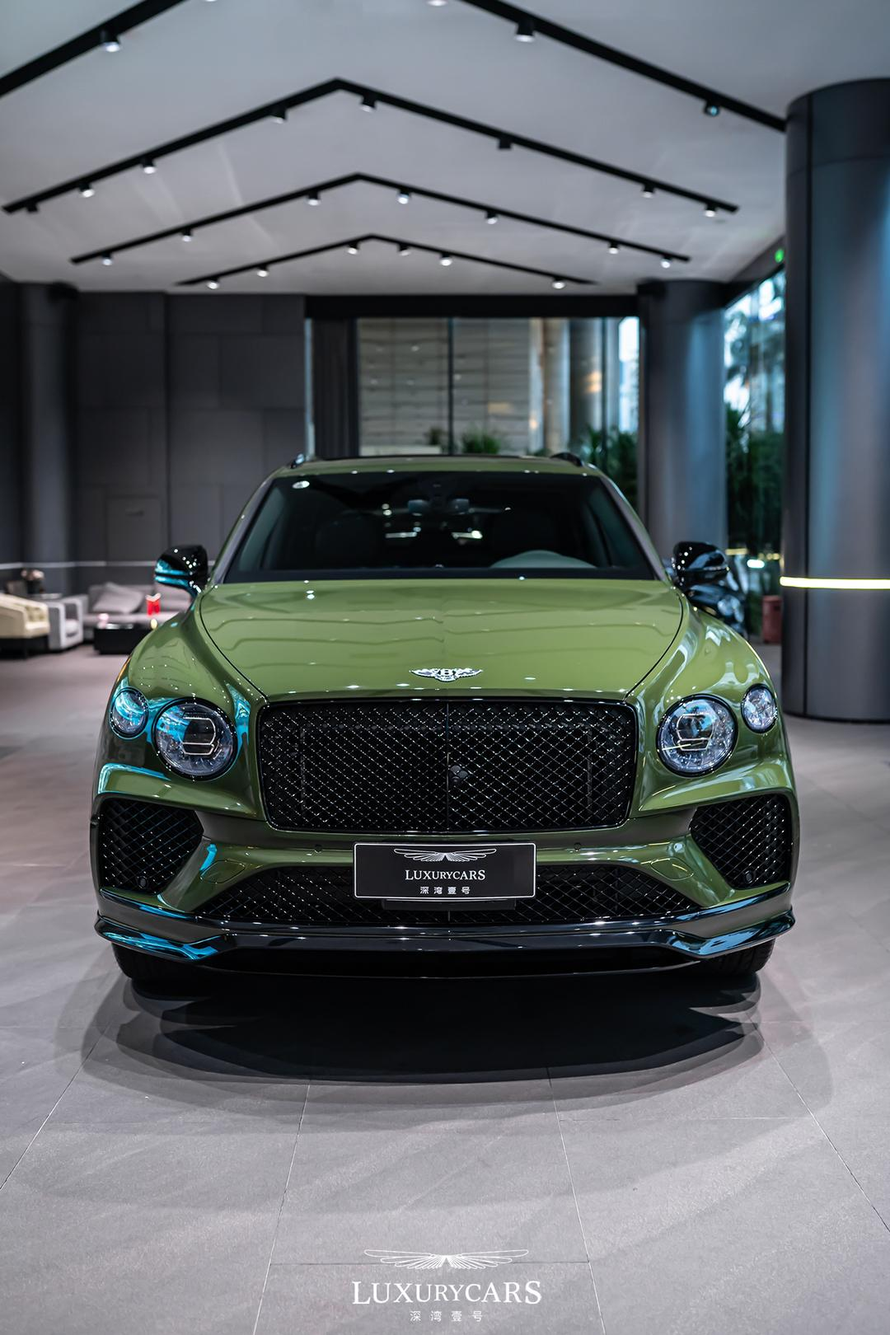other: (105, 445, 782, 1004)
